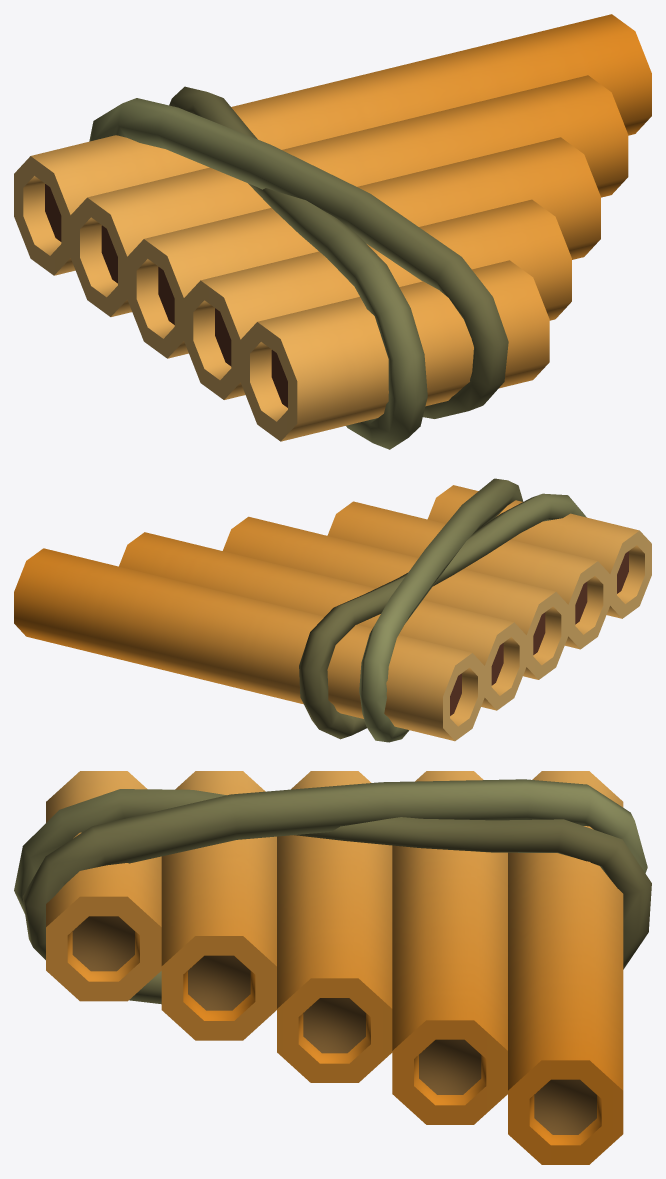
Rendered from obj_Panflute.fbx.
The picture shows the model from 3 angles, top to bottom: view 1: azimuth 30°, elevation 25°; view 2: azimuth 150°, elevation 25°; view 3: azimuth 270°, elevation 25°; orthographic projection. The views are drawn at different scales.
Visible parts, largest first — view 1: obj_Panflute; view 2: obj_Panflute; view 3: obj_Panflute.
Boxes of the visible parts, x1,y1,x2,y2 form: obj_Panflute: (14, 14, 651, 449); obj_Panflute: (14, 478, 651, 742); obj_Panflute: (14, 771, 651, 1164).
Bounding box in the file's own units: 35.61 × 12.02 × 33.22.
